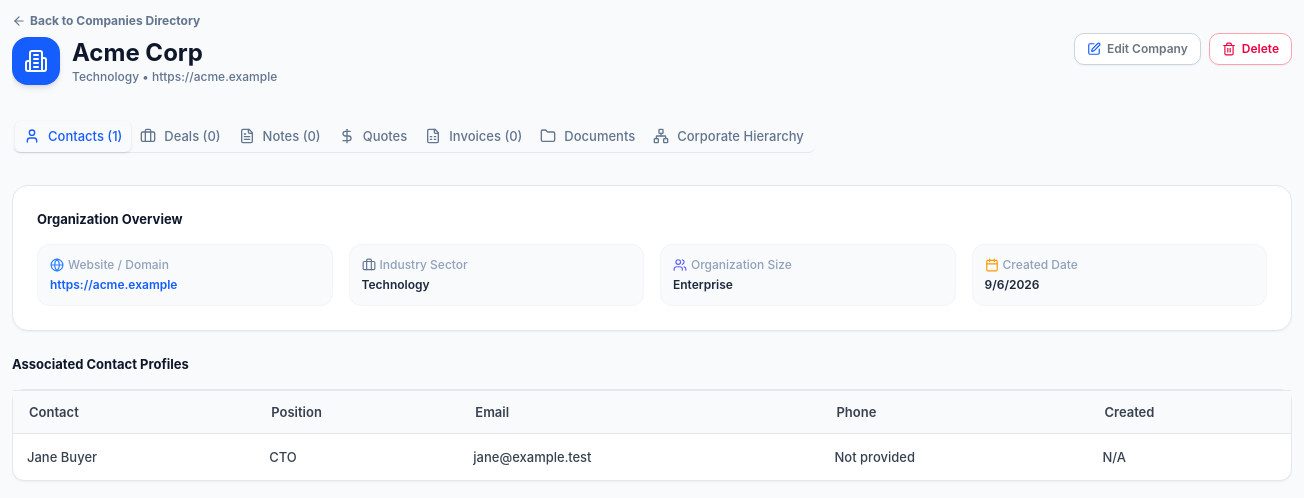
CompanyDetailsPage relationship tabs › loads documents linked to the company
Click the tab "Documents". click: (588, 136)
box: [531,120,644,152]
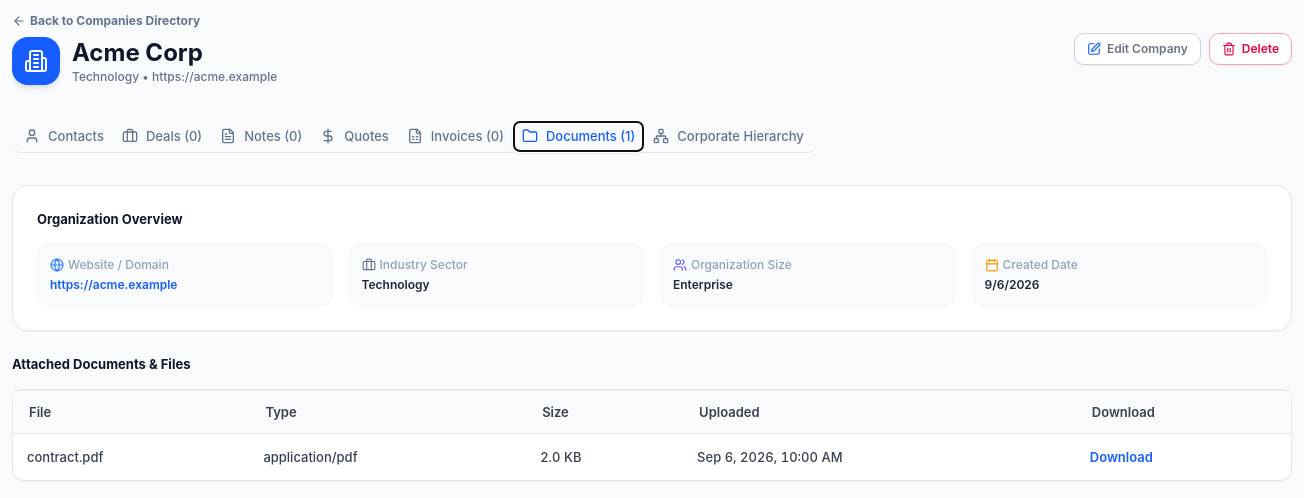
Result: the text "contract.pdf" is shown at [13,434,249,480]
